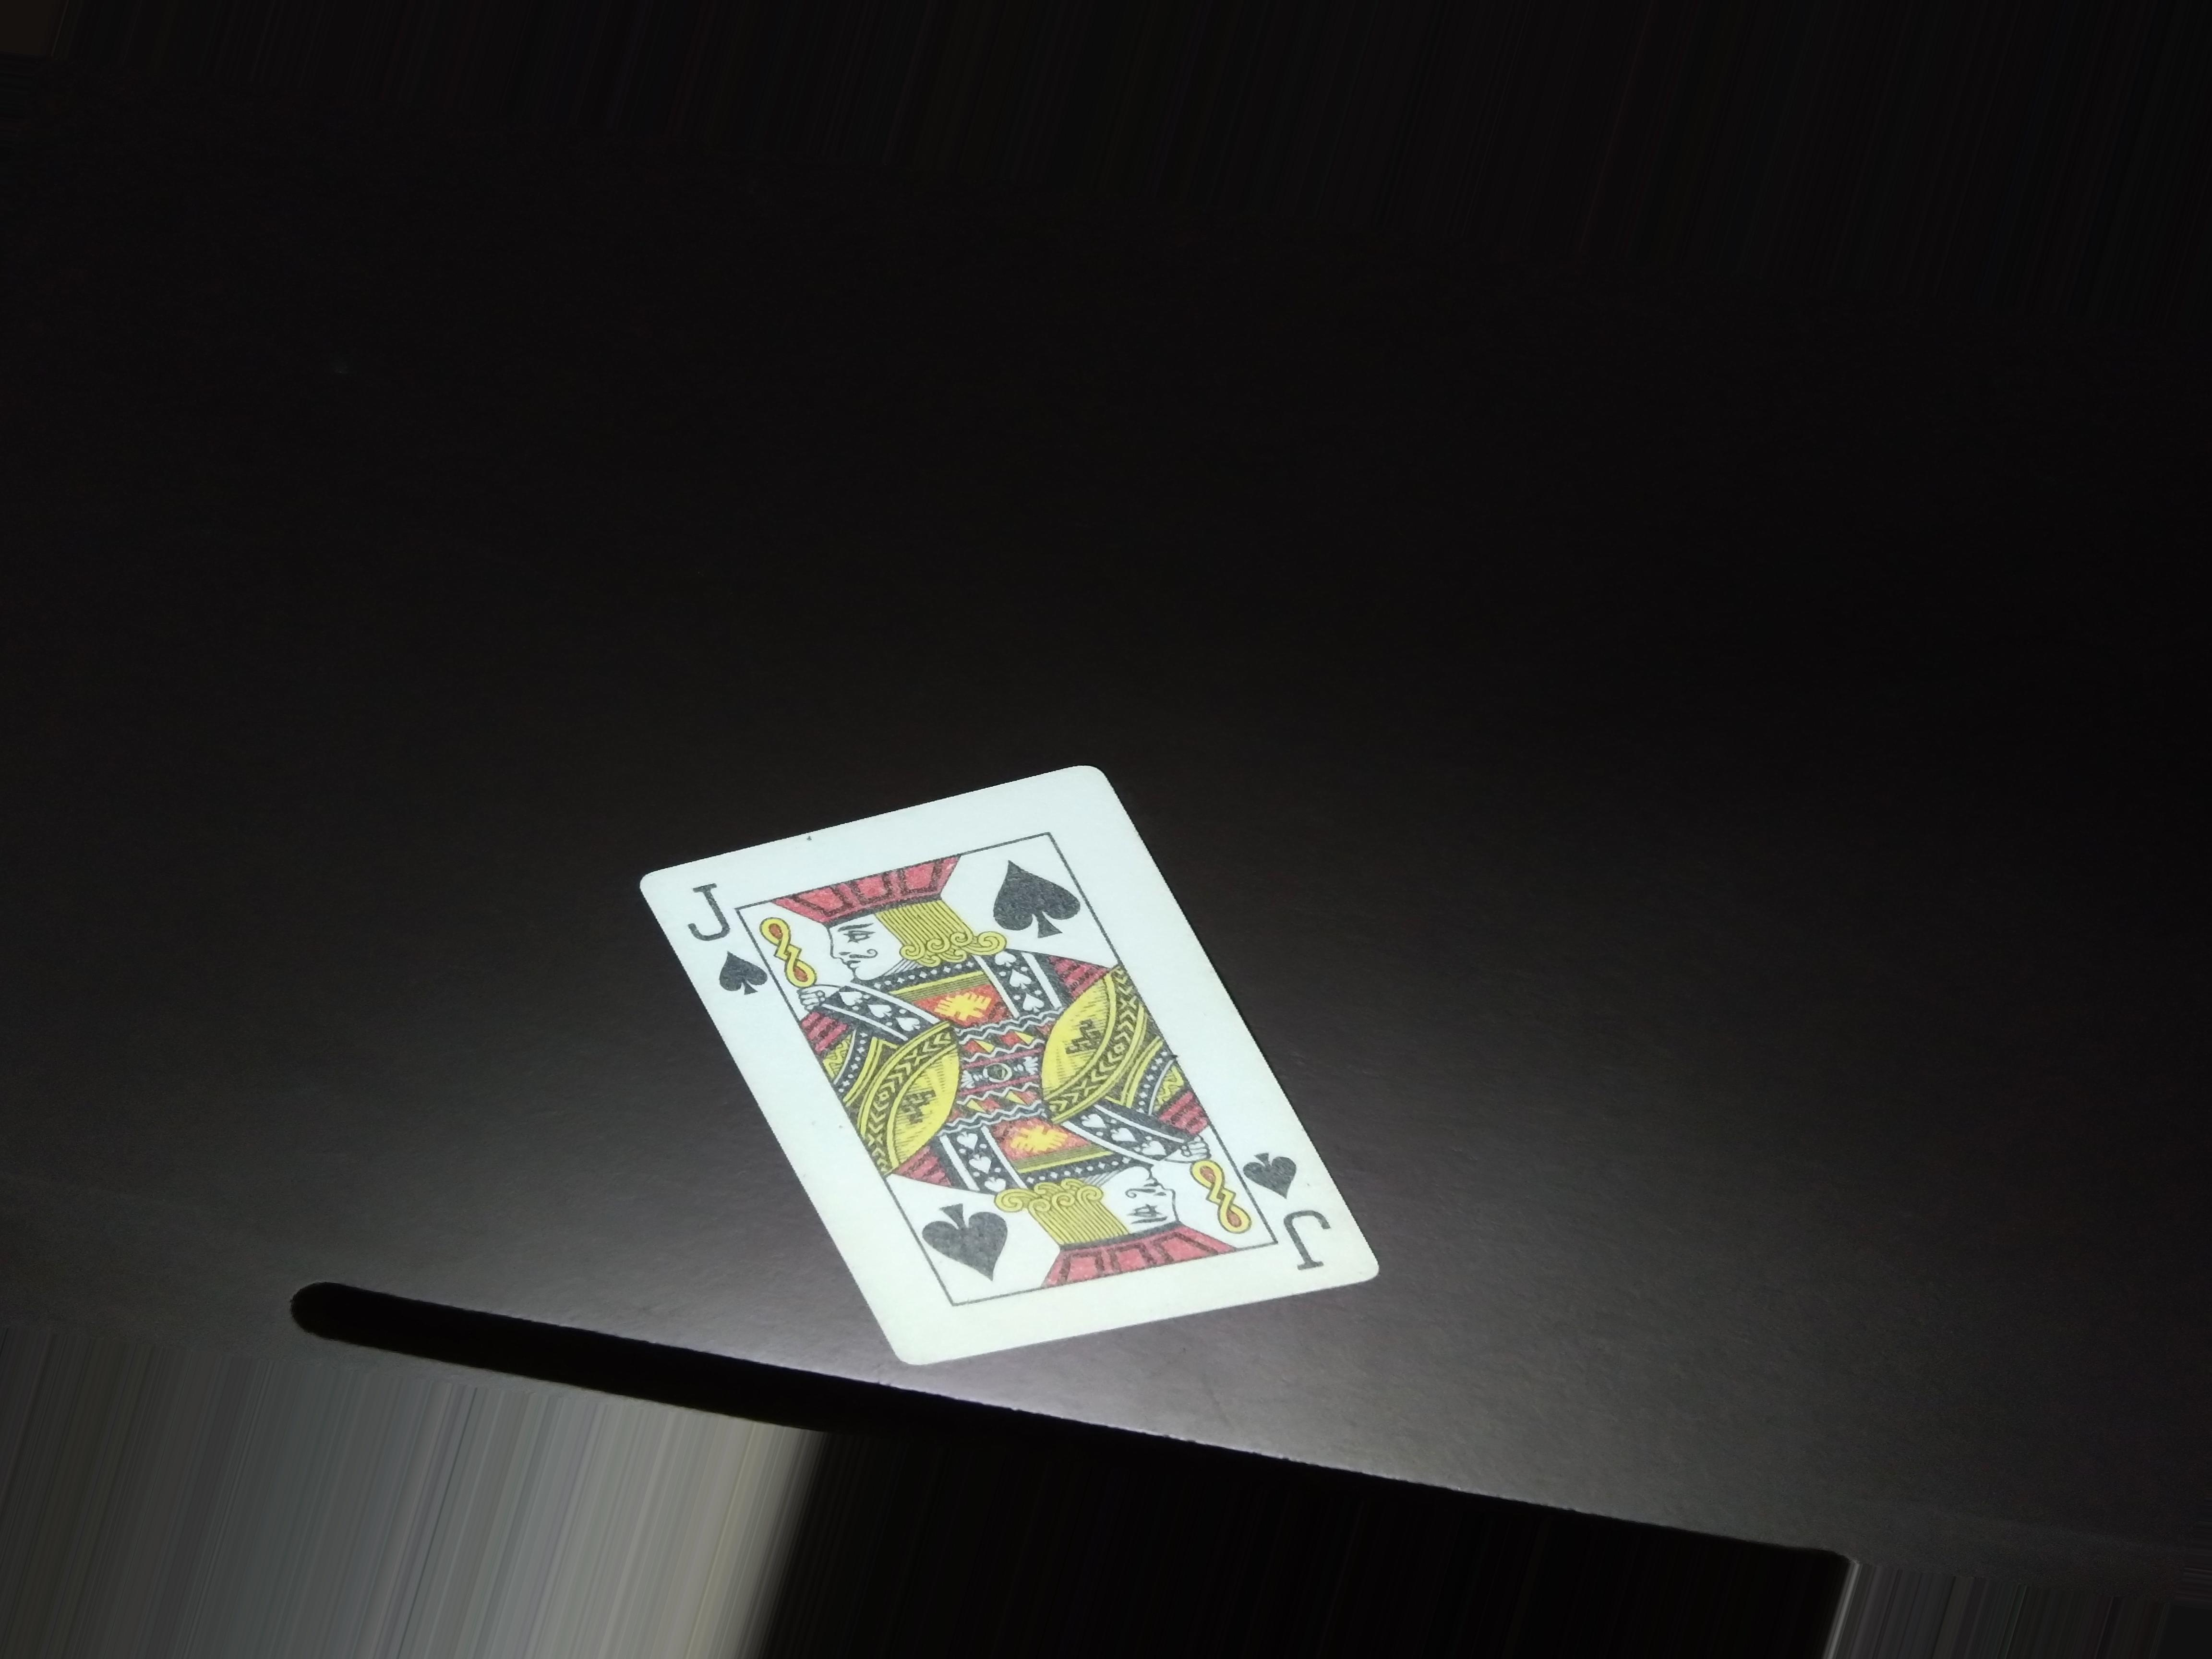JS: (653, 857, 765, 1000)
